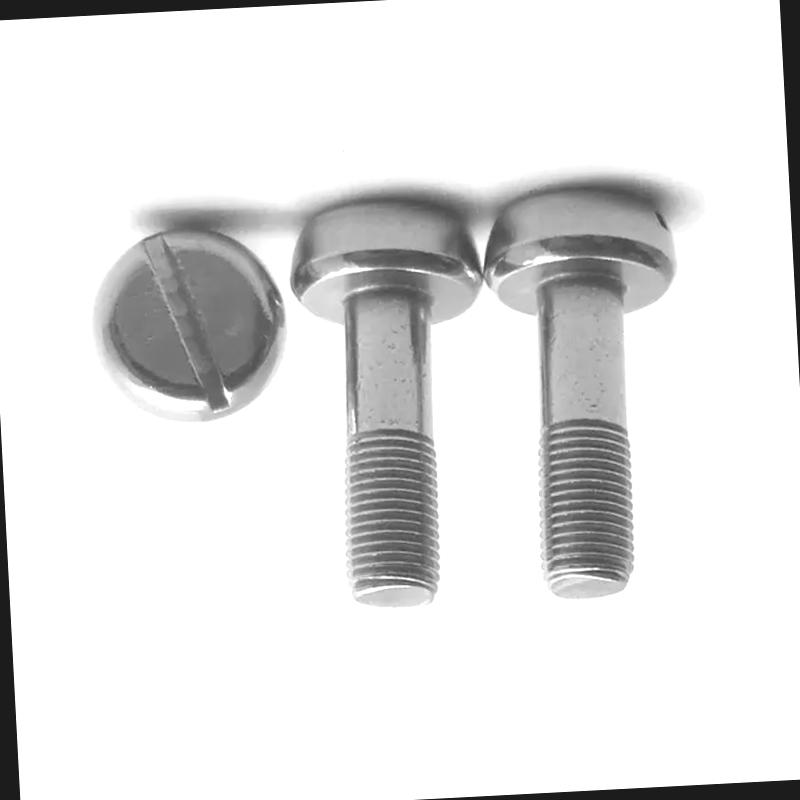screw: (89, 216, 291, 430)
